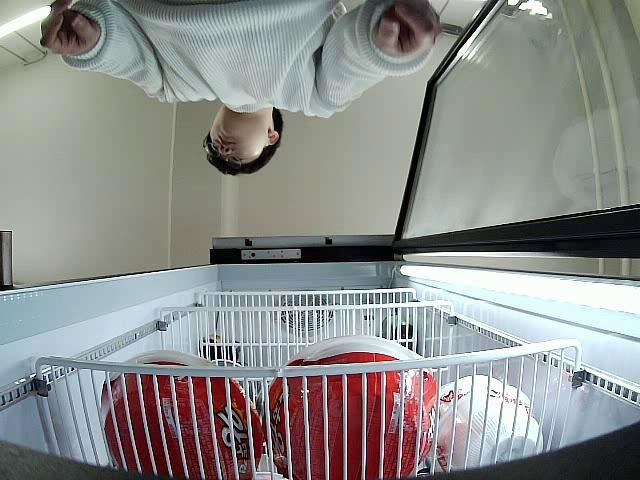00_hand: (372, 0, 449, 61), (35, 0, 105, 56)
